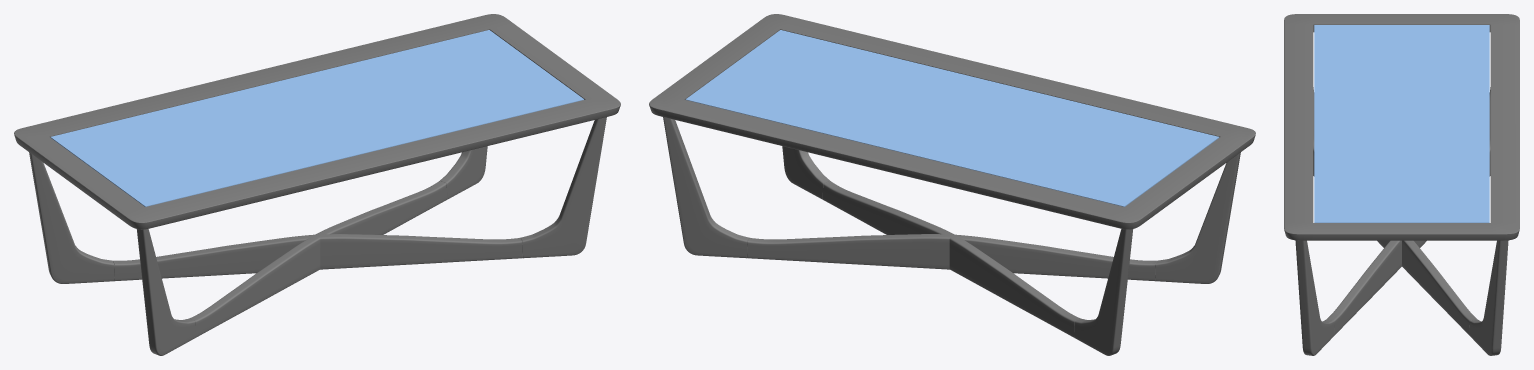
The model's file is F - Coffee Table.FBX.
3 views of the same model, side by side, from view 1: azimuth 30°, elevation 25°; view 2: azimuth 150°, elevation 25°; view 3: azimuth 270°, elevation 25° (orthographic). The views are drawn at different scales.
Visible parts, largest first — view 1: F - Coffee Table; view 2: F - Coffee Table; view 3: F - Coffee Table.
Boxes of the visible parts, bbox=[...] form: F - Coffee Table: bbox=[14, 14, 620, 355]; F - Coffee Table: bbox=[649, 14, 1255, 355]; F - Coffee Table: bbox=[1284, 14, 1519, 355].
Bounding box in the file's own units: 1322 × 599 × 388.
